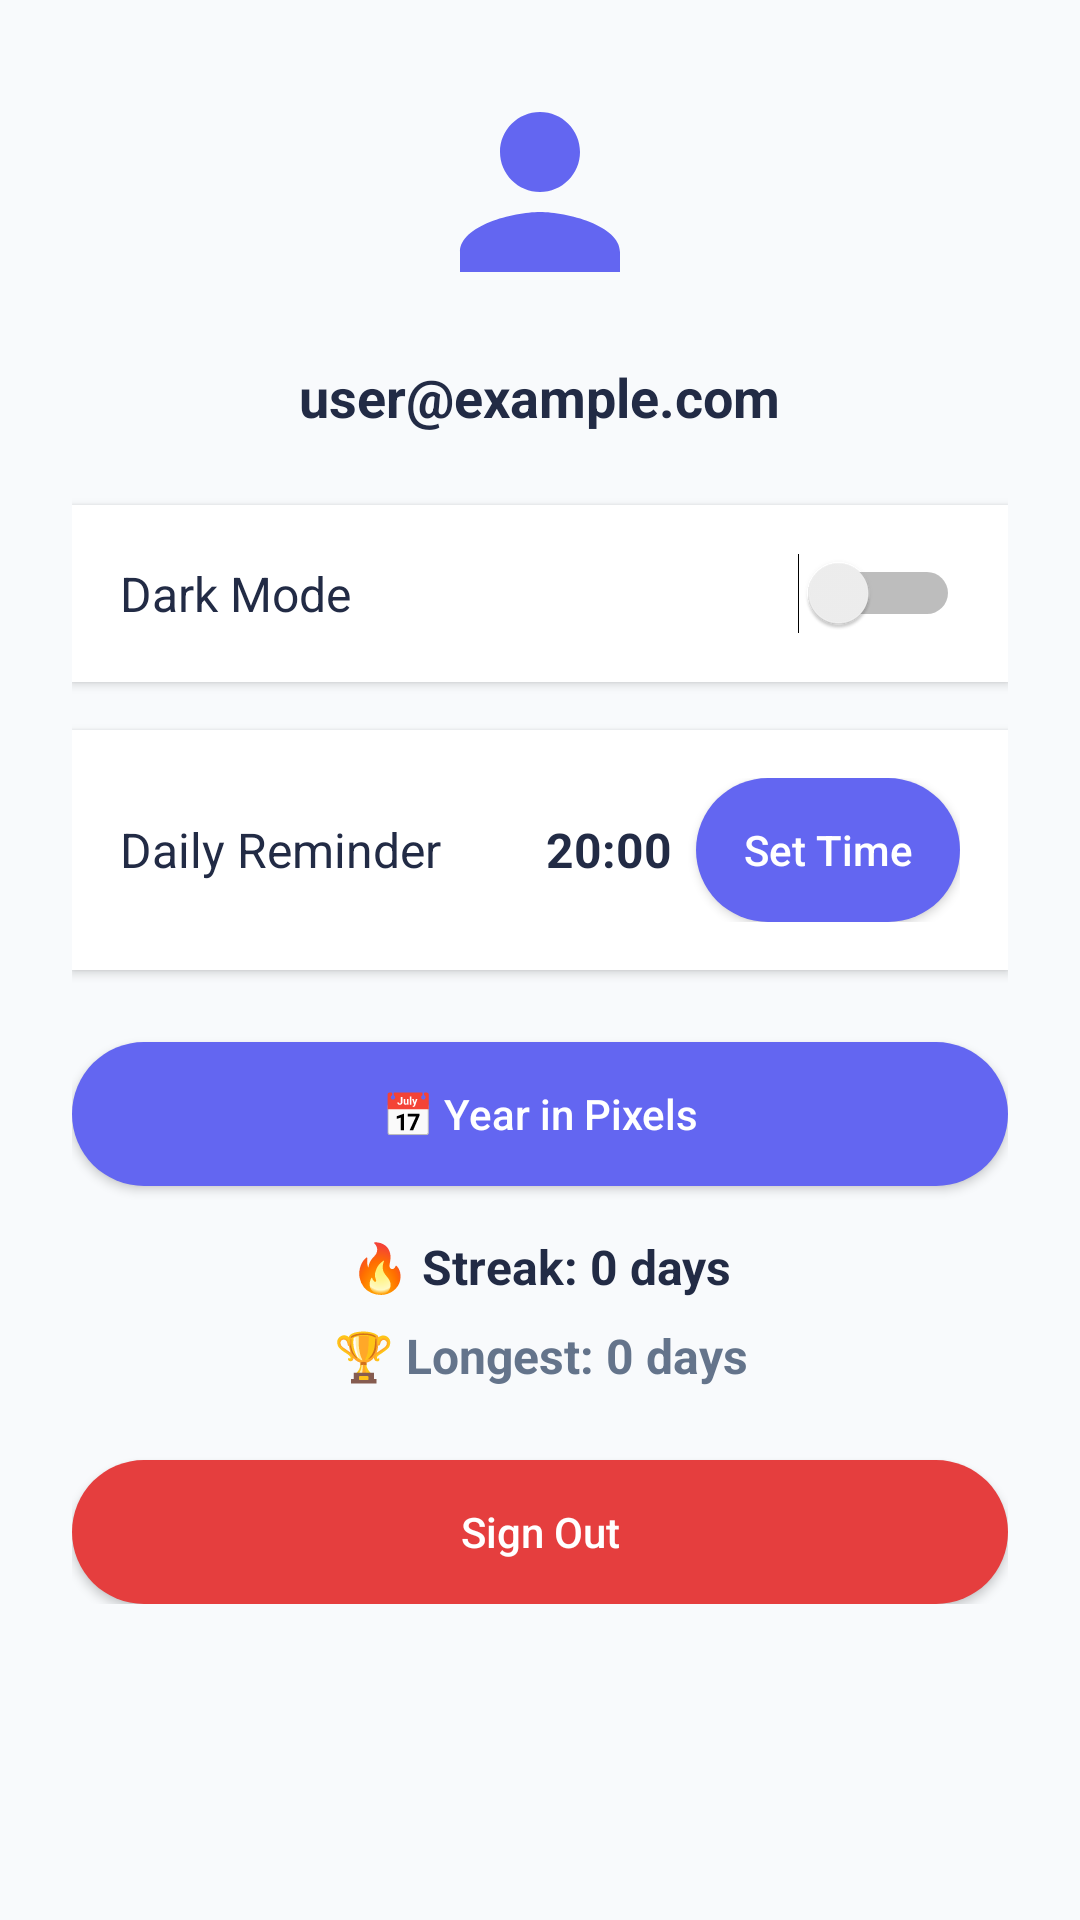

Where icons sit on this 1080px x 1920px app screen, as detection(x1, y1, x2, y2):
Profile Avatar: detection(460, 112, 620, 272)
